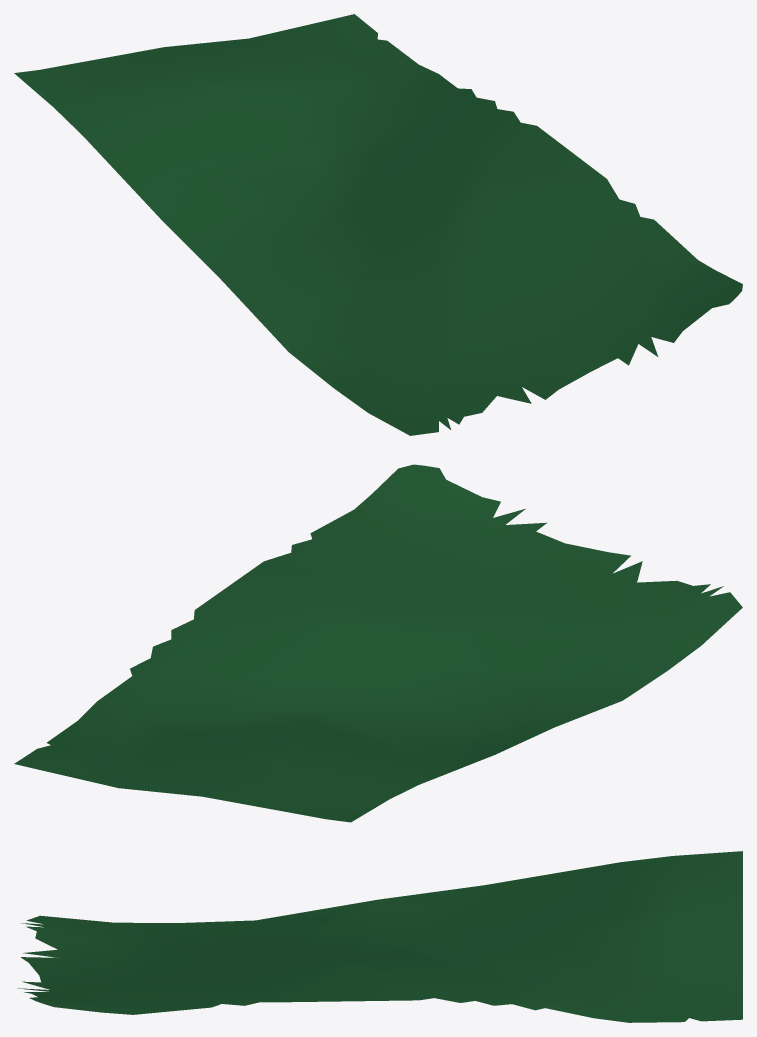
File: payo_land_x4_y3_lod2.glb
The picture shows the model from 3 angles, top to bottom: view 1: azimuth 30°, elevation 25°; view 2: azimuth 150°, elevation 25°; view 3: azimuth 270°, elevation 25°; orthographic projection. The views are drawn at different scales.
Visible parts, largest first — view 1: payo_land_x4_y3; view 2: payo_land_x4_y3; view 3: payo_land_x4_y3.
Part boxes in pixels (x1,y1,x2,y2): payo_land_x4_y3: [14, 14, 742, 435]; payo_land_x4_y3: [14, 464, 742, 822]; payo_land_x4_y3: [17, 851, 742, 1022].
Size of the model in its own units: 126 by 28.7 by 263.
